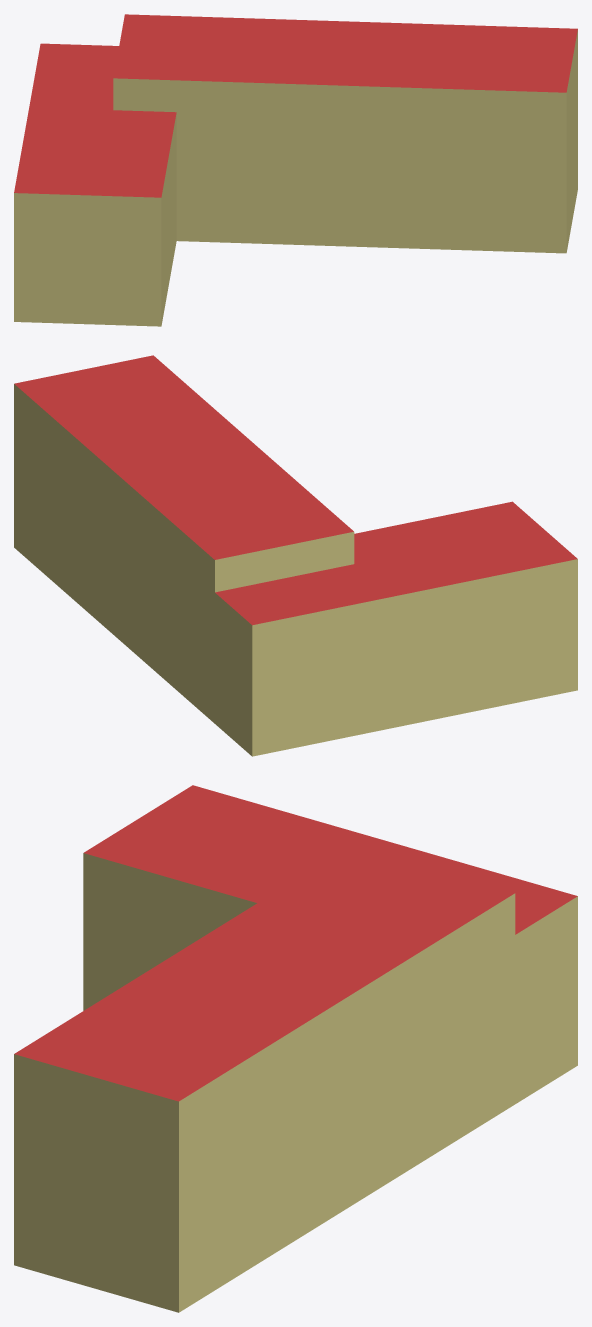
3 renders of one model, top to bottom at view 1: azimuth 30°, elevation 25°; view 2: azimuth 150°, elevation 25°; view 3: azimuth 270°, elevation 25°, orthographic. The views are drawn at different scales.
Parts seen in each view (by area): view 1: group_7, group_6, group_4, group_3; view 2: group_4, group_7, group_6, group_3; view 3: group_7, group_6, group_4, group_3.
Boxes of the visible parts, bbox=[...] form: group_7: bbox=[113, 30, 577, 253]; group_6: bbox=[113, 14, 577, 92]; group_4: bbox=[14, 113, 176, 326]; group_3: bbox=[14, 43, 176, 197]; group_4: bbox=[187, 559, 577, 756]; group_7: bbox=[14, 384, 354, 698]; group_6: bbox=[14, 355, 353, 559]; group_3: bbox=[215, 501, 577, 625]; group_7: bbox=[14, 893, 515, 1312]; group_6: bbox=[14, 845, 514, 1101]; group_4: bbox=[83, 853, 577, 1133]; group_3: bbox=[84, 785, 577, 934].
Bounding box in the file's own units: 59.9 × 39.85 × 16.47.
